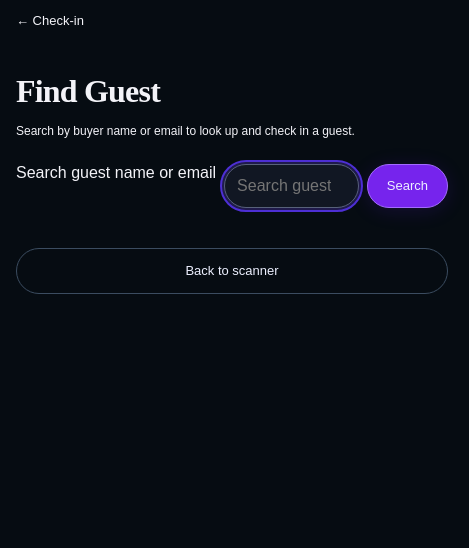
Test: never treats an error as no matches
This screenshot has width=469, height=548.
Type "alex" into the search field.
click(291, 186); type("alex")  # box [224, 164, 359, 208]
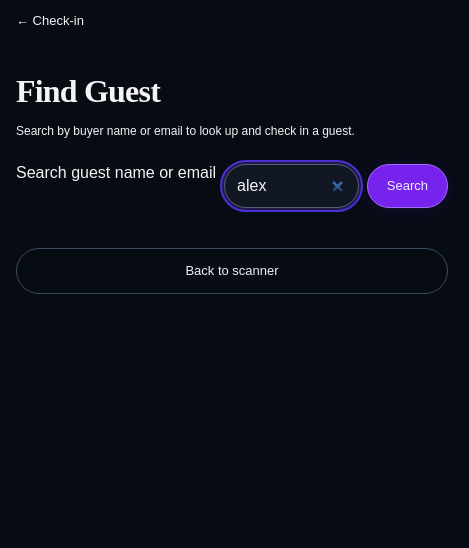
Click the button "Search".
click(407, 186)  # box [367, 164, 448, 208]
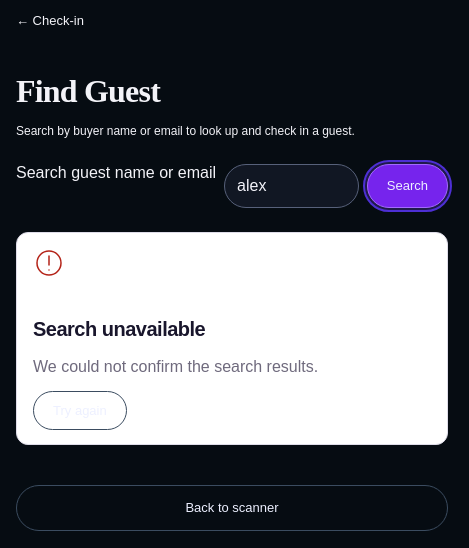
Check: the message shows "Search unavailable", box [33, 318, 205, 340]
